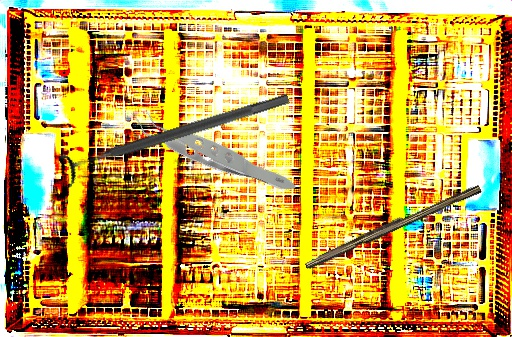Fixation Ring: (56, 80, 295, 190)
Scalpel Handle: (302, 179, 483, 273)
Tissue Forceps: (127, 56, 298, 242)
